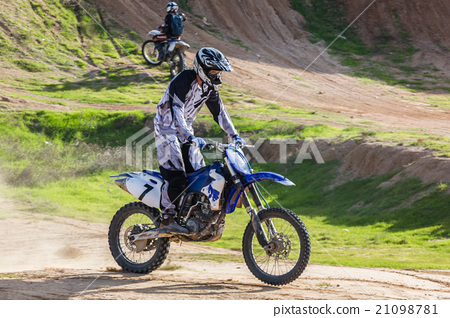helmet: (193, 43, 231, 91)
